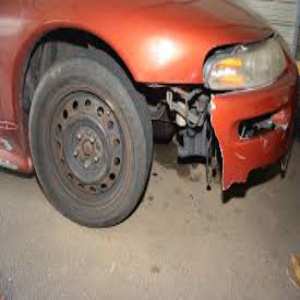bumper: (176, 88, 292, 194)
